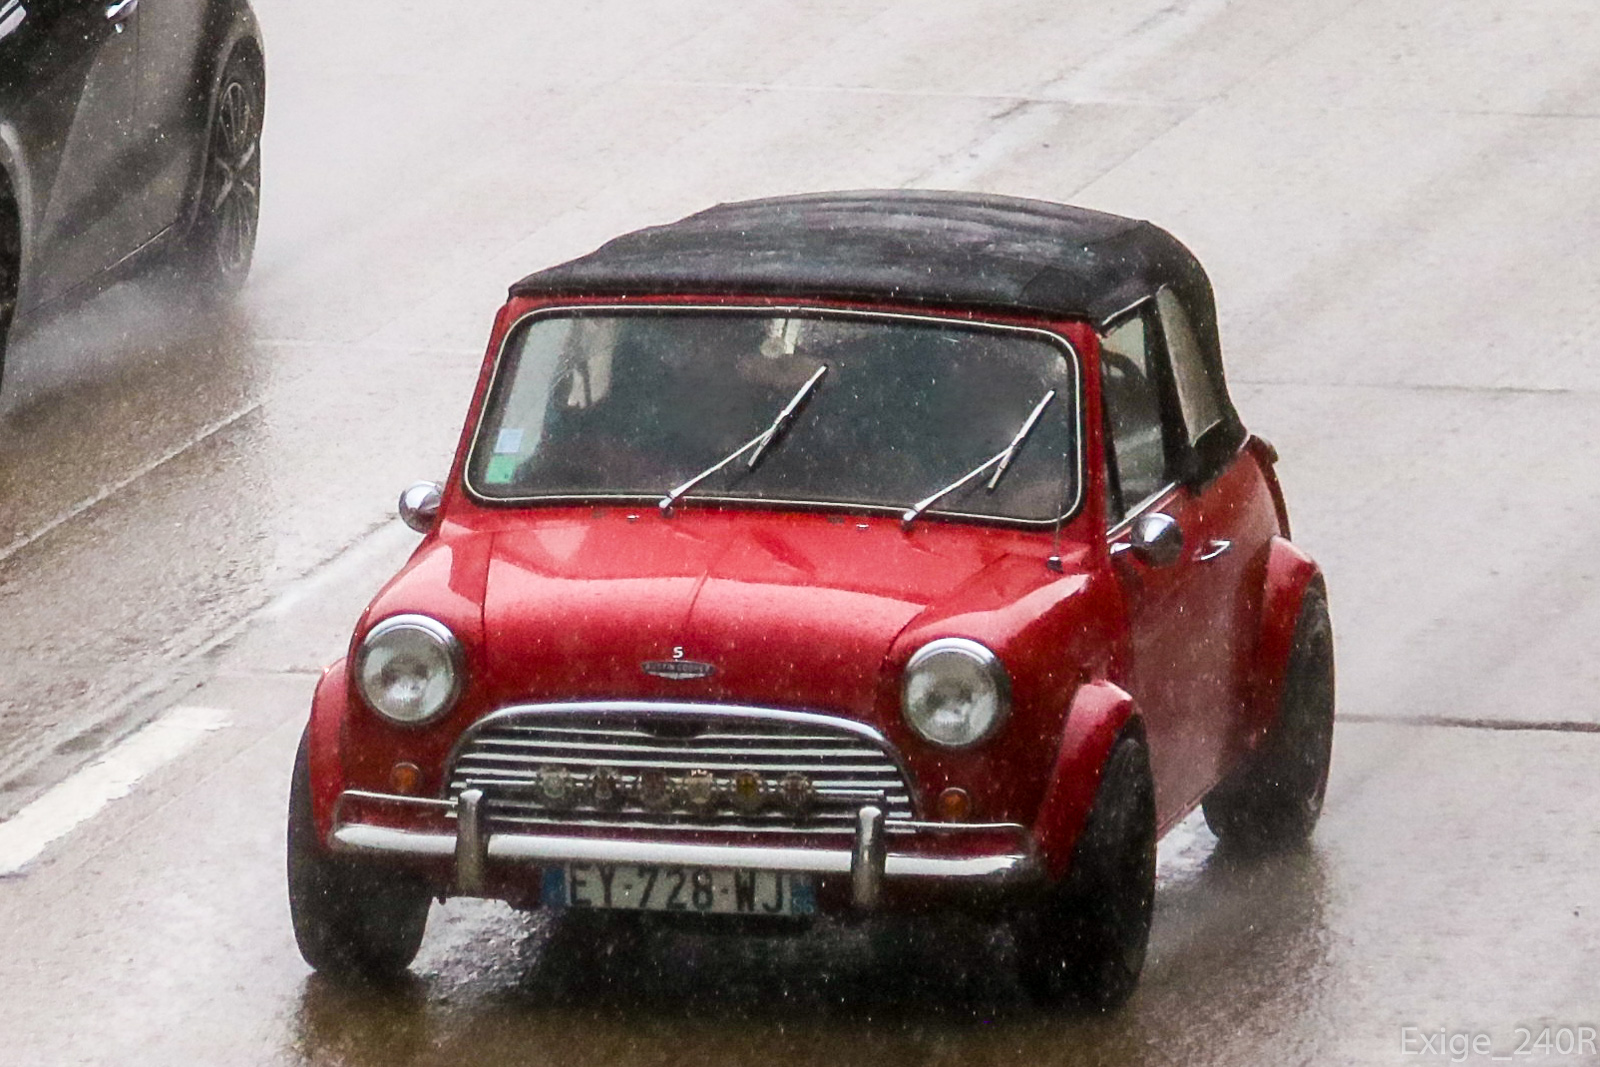licence plate: (552, 860, 826, 921)
